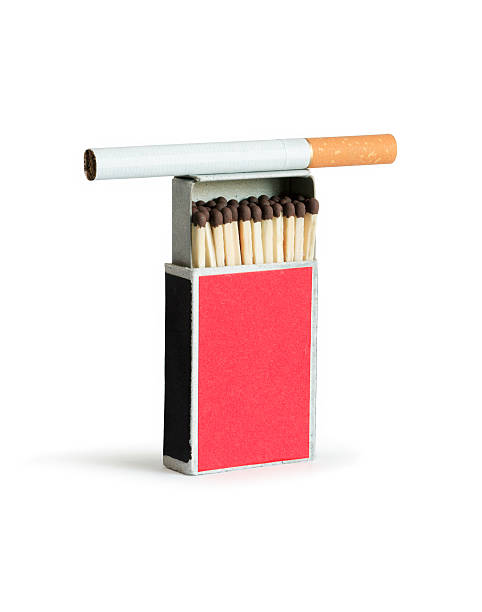cigarette: (84, 129, 398, 184)
